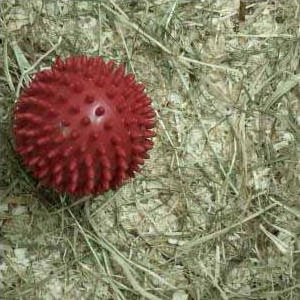ball: (11, 52, 158, 198)
